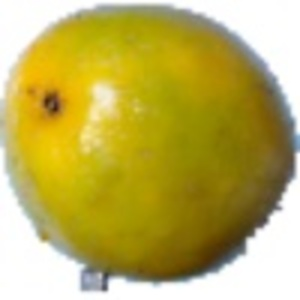maracujá: (1, 3, 300, 294)
